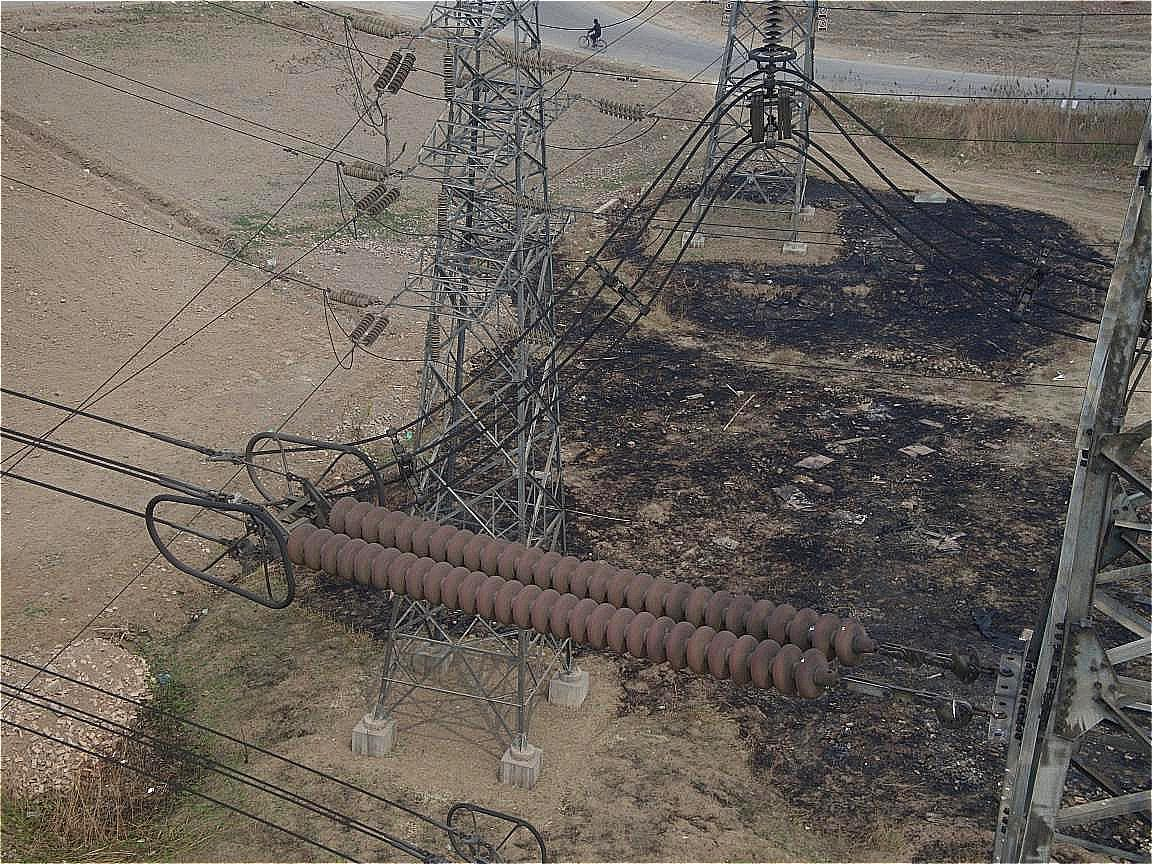insultor1: (250, 471, 900, 703)
